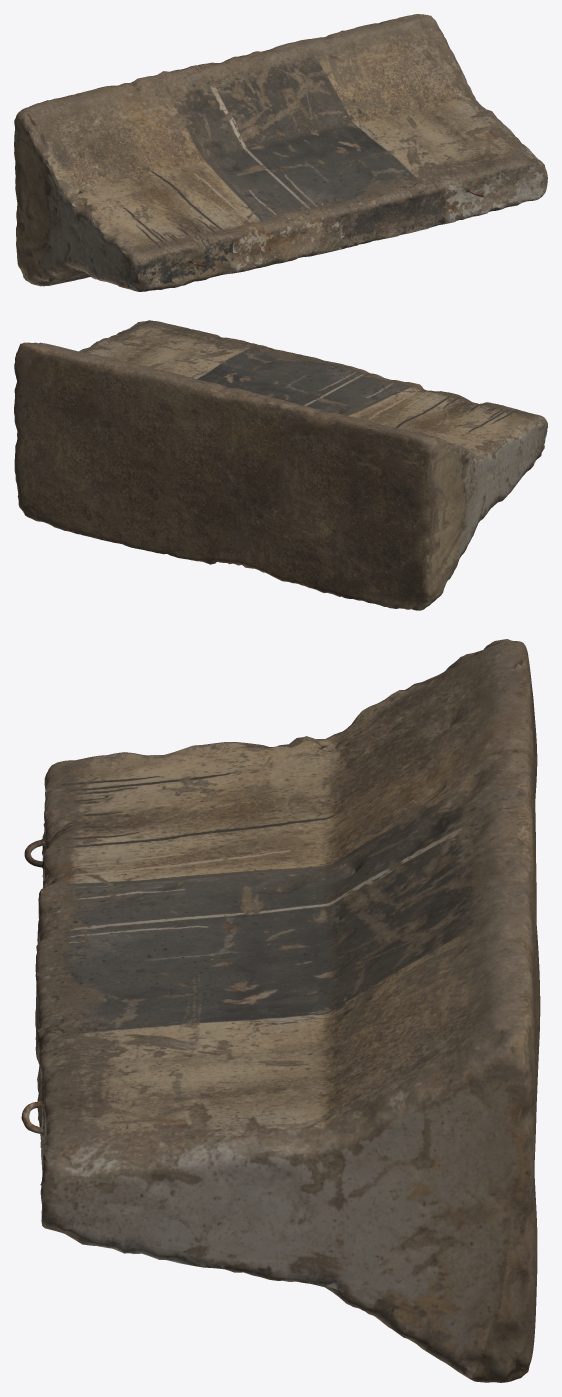
The picture shows the model from 3 angles, top to bottom: view 1: azimuth 30°, elevation 25°; view 2: azimuth 150°, elevation 25°; view 3: azimuth 270°, elevation 25°; orthographic projection. The views are drawn at different scales.
Visible parts, largest first — view 1: concrete_road_barrier; view 2: concrete_road_barrier; view 3: concrete_road_barrier.
Boxes of the visible parts, x1,y1,x2,y2 form: concrete_road_barrier: (14,14,547,291); concrete_road_barrier: (14,320,547,610); concrete_road_barrier: (21,639,540,1382).
Size of the model in its own units: 1.55 by 0.6387 by 0.831.
Materials: 1 (1 with a texture image).
